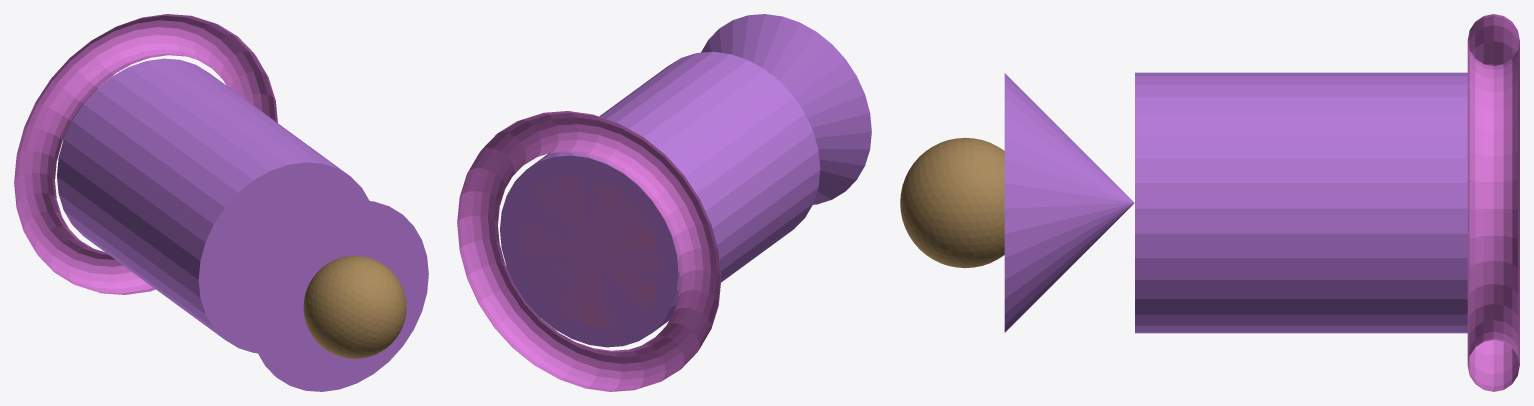
File: magic_potion.glb
The picture shows the model from 3 angles, left to right: view 1: azimuth 30°, elevation 25°; view 2: azimuth 150°, elevation 25°; view 3: azimuth 270°, elevation 25°; orthographic projection. The views are drawn at different scales.
Parts seen in each view (by area): view 1: part_1, part_0, part_2, part_4; view 2: part_1, part_0, part_2, part_3; view 3: part_1, part_0, part_2, part_4.
Part boxes in pixels (<box>): part_1: <box>57,58,369,353</box>; part_0: <box>14,14,277,294</box>; part_2: <box>250,200,428,391</box>; part_4: <box>303,256,406,358</box>; part_1: <box>500,51,820,347</box>; part_0: <box>457,111,721,391</box>; part_2: <box>701,14,871,204</box>; part_3: <box>518,174,660,327</box>; part_1: <box>1135,72,1467,333</box>; part_0: <box>1467,14,1519,391</box>; part_2: <box>1004,73,1134,332</box>; part_4: <box>900,137,1004,268</box>.
Bounding box in the file's own units: 0.58 × 0.58 × 0.95.
